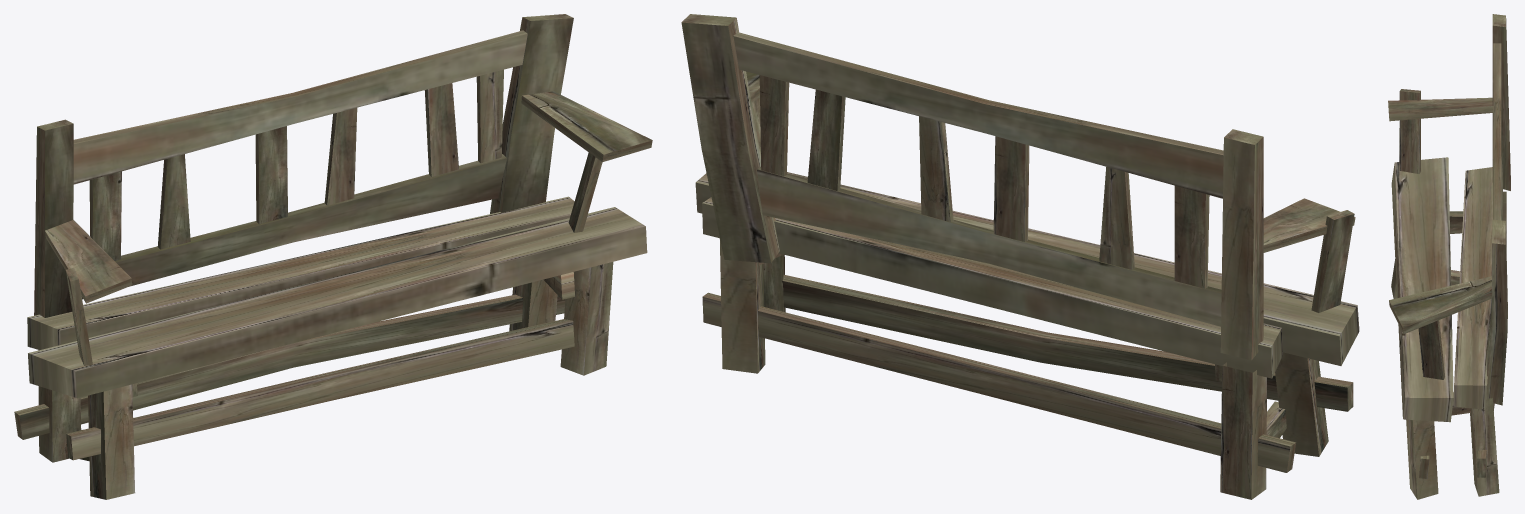
File: bench_shanty_1.fbx
The picture shows the model from 3 angles, left to right: view 1: azimuth 30°, elevation 25°; view 2: azimuth 150°, elevation 25°; view 3: azimuth 270°, elevation 25°; orthographic projection. The views are drawn at different scales.
Parts seen in each view (by area): view 1: TablePlank5, polySurface31, TablePlank6, polySurface400, polySurface401, polySurface39, polySurface391, polySurface390, polySurface397, polySurface399, polySurface393, polySurface392 (+10 smaller); view 2: TablePlank6, polySurface31, polySurface401, polySurface39, polySurface400, polySurface391, polySurface390, TablePlank5, polySurface396, polySurface398, polySurface397, polySurface42 (+8 smaller); view 3: TablePlank5, TablePlank6, polySurface391, polySurface393, polySurface399, polySurface398, polySurface392, polySurface390, polySurface31, polySurface394, polySurface395, polySurface388 (+4 smaller).
Boxes of the visible parts, x1,y1,x2,y2 form: TablePlank5: (28, 207, 647, 398); polySurface31: (73, 30, 527, 184); TablePlank6: (27, 196, 574, 350); polySurface400: (66, 319, 574, 460); polySurface401: (82, 154, 506, 299); polySurface39: (14, 294, 565, 439); polySurface391: (490, 14, 573, 213); polySurface390: (34, 119, 73, 317); polySurface397: (88, 384, 135, 499); polySurface399: (560, 262, 613, 375); polySurface393: (521, 91, 652, 162); polySurface392: (45, 220, 132, 303); TablePlank6: (702, 197, 1282, 378); polySurface31: (733, 32, 1223, 198); polySurface401: (757, 167, 1221, 326); polySurface39: (702, 292, 1295, 472); polySurface400: (782, 274, 1353, 411); polySurface391: (681, 14, 779, 263); polySurface390: (1220, 129, 1263, 360); TablePlank5: (695, 172, 1359, 365); polySurface396: (1220, 362, 1266, 499); polySurface398: (719, 238, 765, 373); polySurface397: (1275, 352, 1328, 456); polySurface42: (993, 136, 1029, 241); TablePlank5: (1391, 157, 1453, 422); TablePlank6: (1453, 167, 1492, 409); polySurface391: (1486, 219, 1507, 405); polySurface393: (1389, 276, 1491, 333); polySurface399: (1406, 419, 1438, 499); polySurface398: (1470, 396, 1499, 496); polySurface392: (1388, 97, 1493, 121); polySurface390: (1492, 14, 1510, 190); polySurface31: (1493, 43, 1501, 220); polySurface394: (1399, 89, 1420, 173); polySurface395: (1418, 320, 1445, 379); polySurface388: (1449, 211, 1463, 233).
Size of the model in its own units: 658 by 351 by 140.
1 material, 1 textured.
